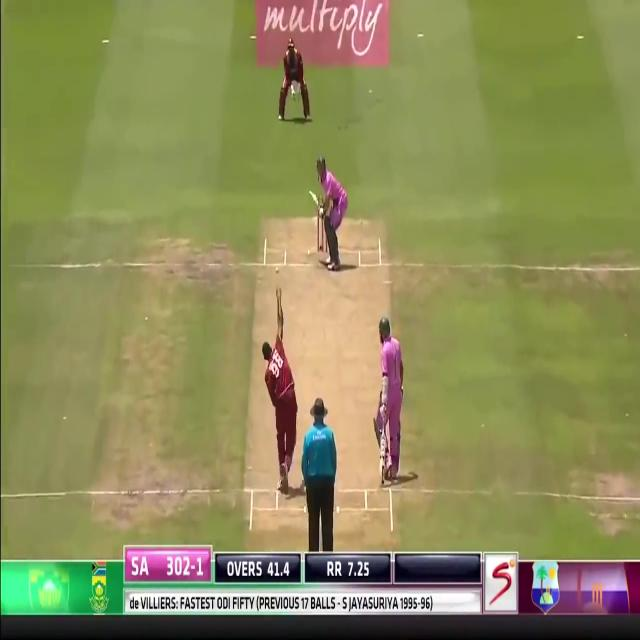Ball: (377, 318, 406, 488), (314, 157, 347, 270)
Fielder: (263, 285, 299, 499), (279, 40, 309, 122)
Umpire: (301, 398, 338, 548)
